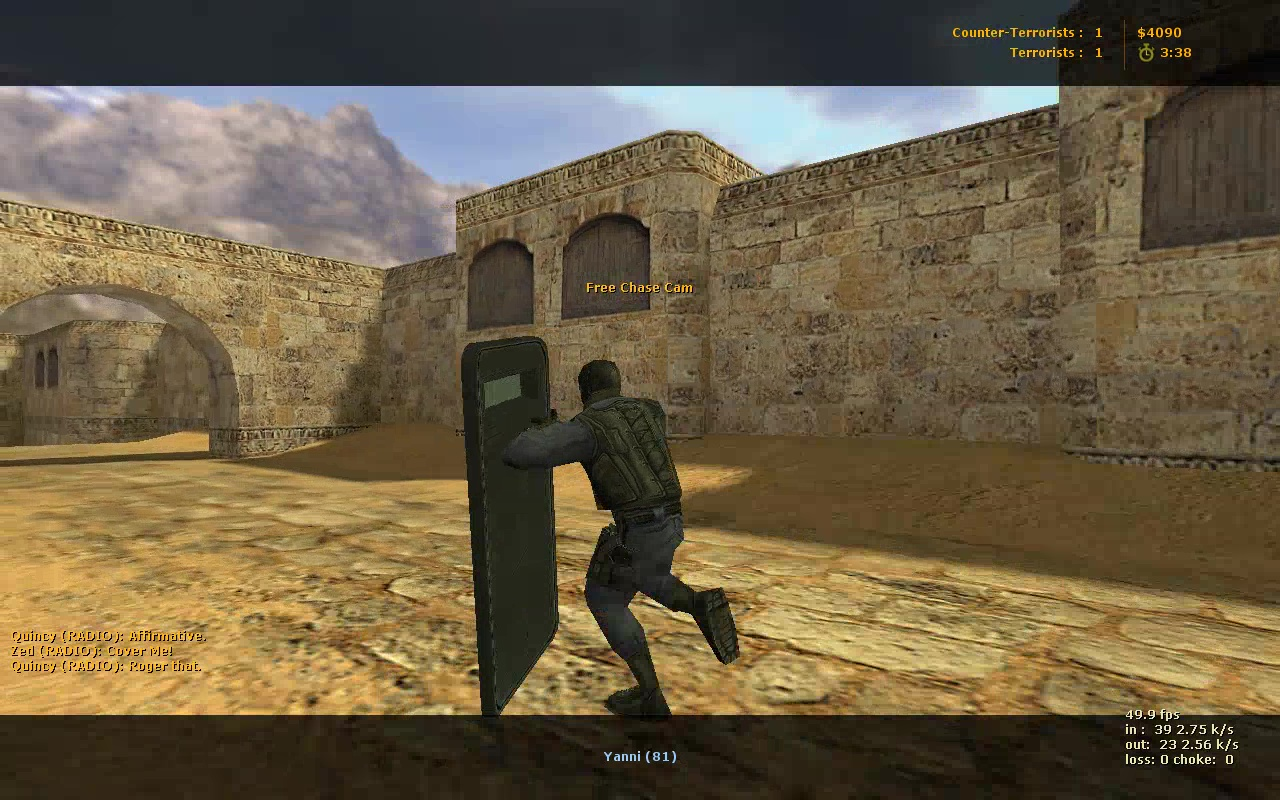ct: (459, 336, 742, 724)
